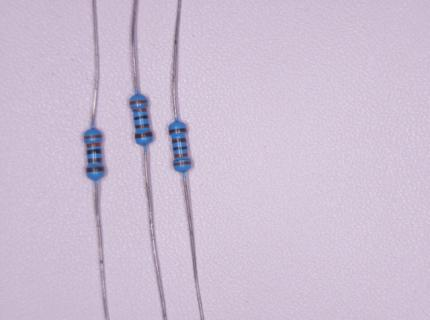Black band: (87, 149, 102, 155), (134, 115, 149, 121), (173, 146, 188, 151)
Brown band: (135, 132, 153, 139), (169, 127, 187, 134), (87, 166, 105, 172), (88, 158, 102, 164), (172, 138, 187, 143), (135, 124, 150, 129)
Orange band: (173, 161, 192, 167), (86, 142, 101, 148), (84, 135, 102, 140), (130, 100, 148, 105), (132, 108, 147, 113), (174, 153, 188, 158)
